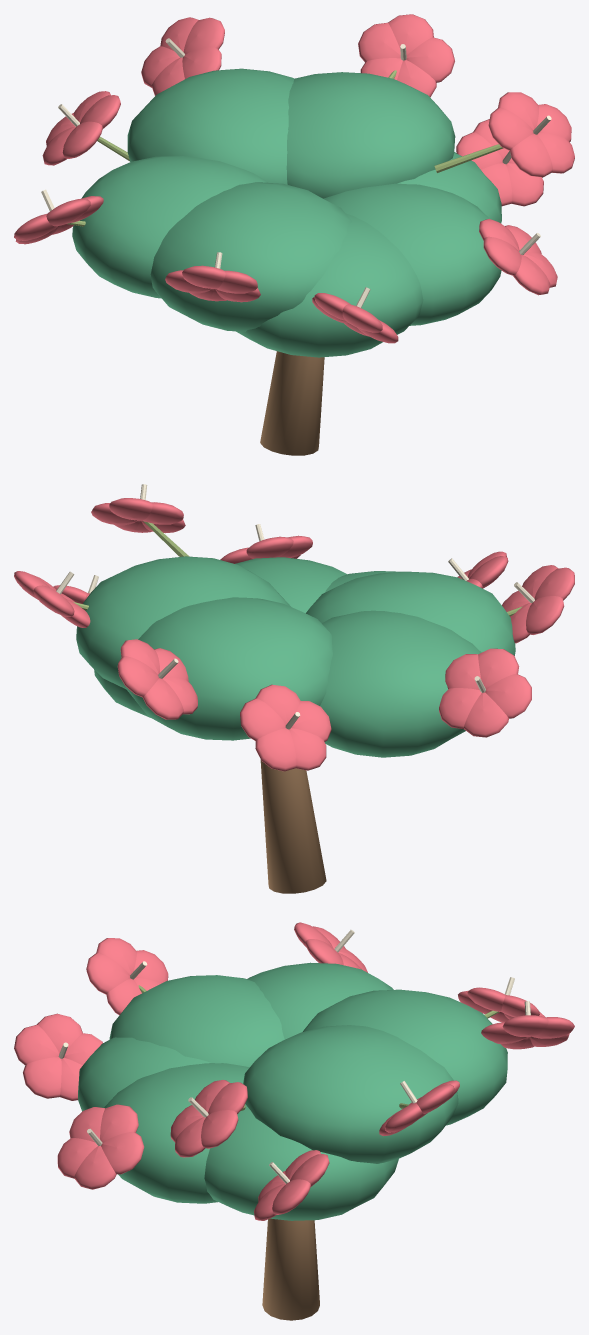
The model's file is flowering_hibiscus_tropical_island_and_palm_trees_6820.glb.
3 renders of one model, top to bottom at view 1: azimuth 30°, elevation 25°; view 2: azimuth 150°, elevation 25°; view 3: azimuth 270°, elevation 25°, orthographic. The views are drawn at different scales.
Visible parts, largest first — view 1: hibiscus; view 2: hibiscus; view 3: hibiscus.
Part boxes in pixels (bbox=[...]): hibiscus: bbox=[14, 14, 574, 455]; hibiscus: bbox=[14, 484, 574, 893]; hibiscus: bbox=[14, 922, 574, 1320].
Bounding box in the file's own units: 2.54 × 1.54 × 2.49.
